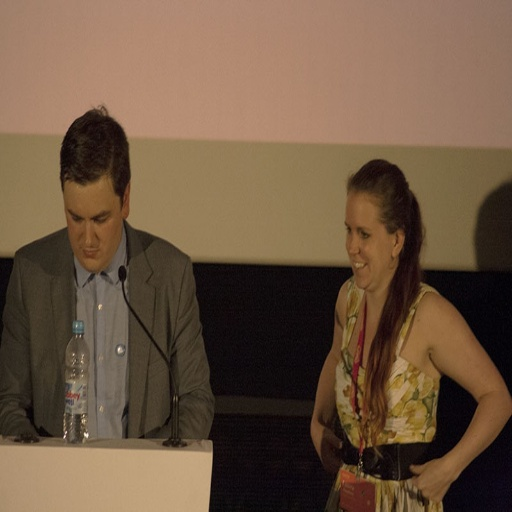hand: (311, 415, 346, 479), (409, 459, 451, 505)
